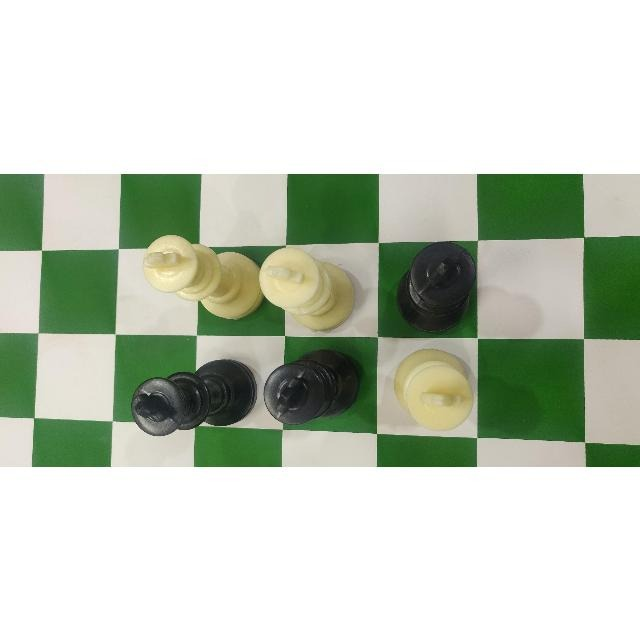black-king: (125, 367, 250, 452), (390, 236, 479, 336), (262, 352, 358, 430)
white-king: (136, 229, 259, 328), (252, 246, 356, 328), (390, 351, 470, 430)
